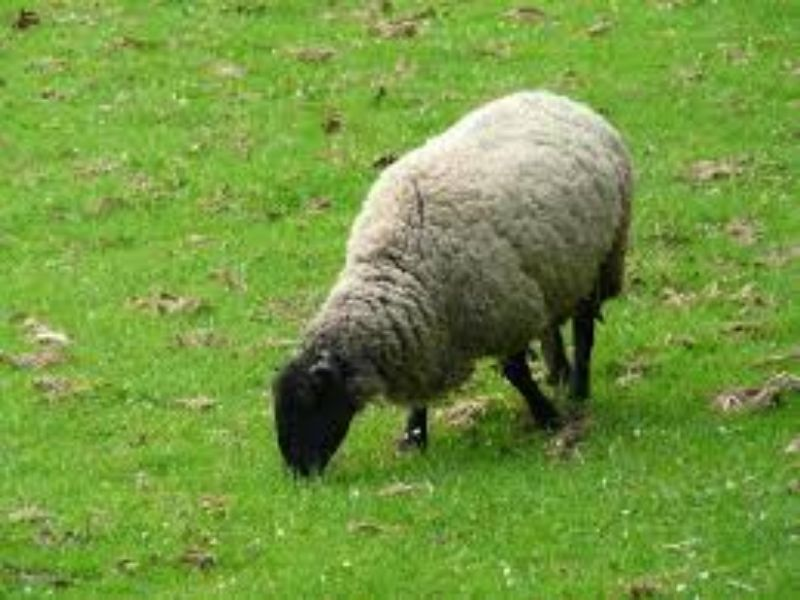sheep: (265, 70, 631, 482)
